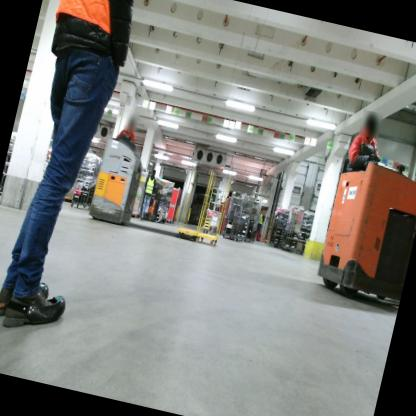pallet_truck: (309, 146, 416, 311), (87, 133, 217, 243), (138, 179, 168, 224)
